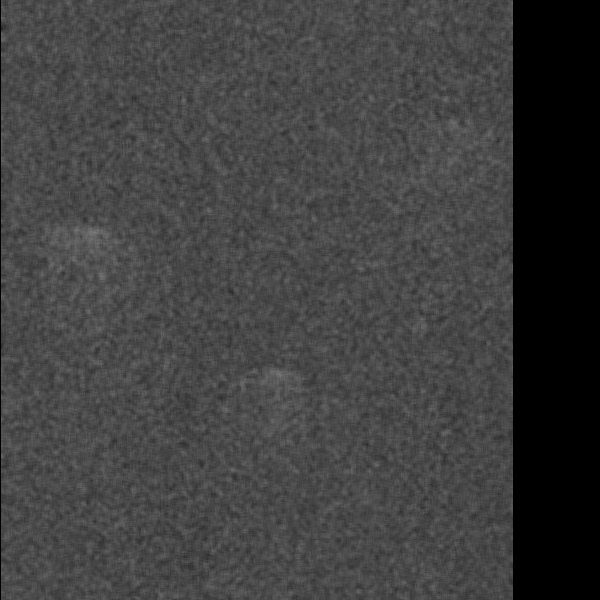spark: (80, 219, 107, 266), (265, 364, 292, 398)
